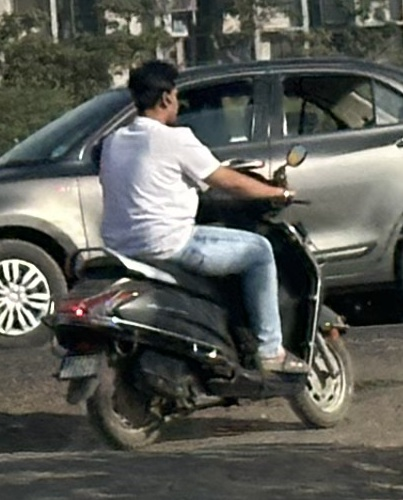BikeWithRider: (33, 55, 370, 459)
NoHelmet: (125, 55, 190, 130)
